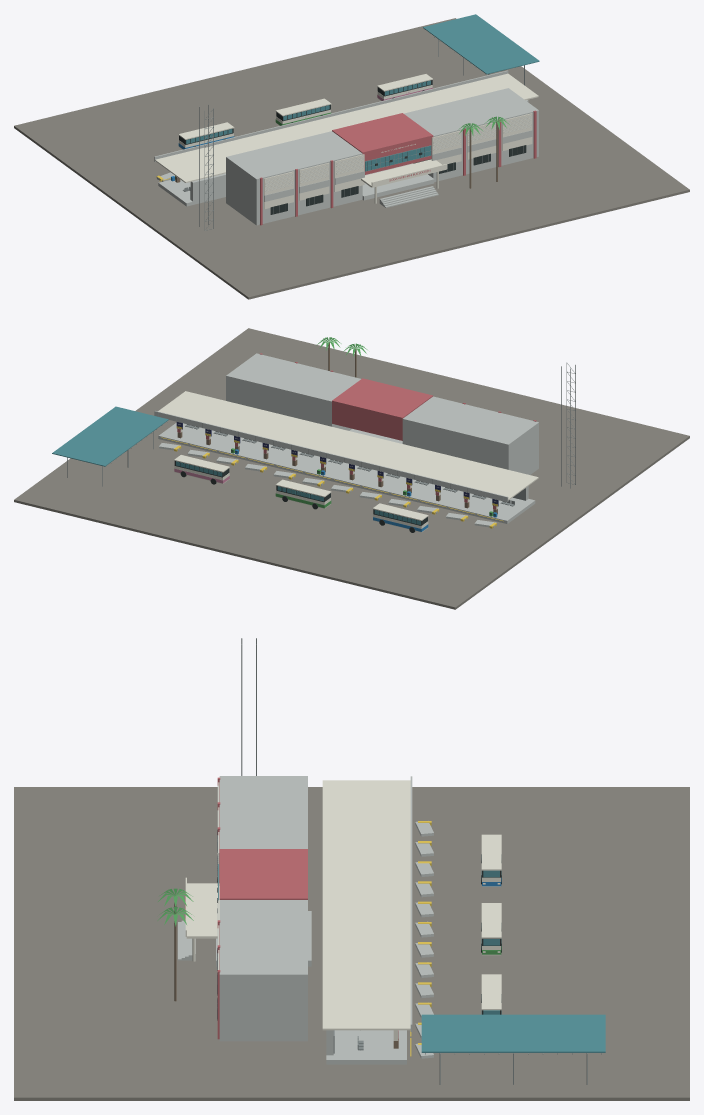
The model's file is godavarikhani_bus_station.glb.
3 renders of one model, top to bottom at view 1: azimuth 30°, elevation 25°; view 2: azimuth 150°, elevation 25°; view 3: azimuth 270°, elevation 25°, orthographic. The views are drawn at different scales.
Visible parts, largest first — view 1: Bus station site, Platform canopy, Terminal wing, Terminal wing.001, Side bay roof, Central upper entrance bridge, Platform grey fascia, Entrance floor, Concourse rear wall, Entrance projecting canopy, Front cladding panel.001, Front cladding panel.005 (+6 smaller); view 2: Bus station site, Platform canopy, Terminal wing, Platform slab, Terminal wing.001, Central upper entrance bridge, Side bay roof, Platform grey fascia; view 3: Bus station site, Platform canopy, Terminal wing.001, Side bay roof, Terminal wing, Central upper entrance bridge, Platform slab, Entrance projecting canopy, Blue local bus roof, Pink local bus roof, Platform grey fascia, Green local bus roof.
Part boxes in pixels (x1,y1,x2,y2): Bus station site: [14, 18, 689, 299]; Platform canopy: [155, 73, 538, 182]; Terminal wing: [226, 131, 362, 225]; Terminal wing.001: [404, 88, 538, 181]; Side bay roof: [423, 14, 539, 74]; Central upper entrance bridge: [332, 113, 433, 174]; Platform grey fascia: [154, 70, 508, 161]; Entrance floor: [362, 163, 434, 200]; Concourse rear wall: [190, 100, 528, 204]; Entrance projecting canopy: [361, 159, 446, 187]; Front cladding panel.001: [299, 163, 329, 200]; Front cladding panel.005: [502, 113, 532, 150]; Bus station site: [14, 328, 689, 609]; Platform canopy: [158, 391, 538, 500]; Terminal wing: [402, 396, 538, 474]; Platform slab: [158, 423, 535, 523]; Terminal wing.001: [226, 353, 360, 430]; Central upper entrance bridge: [332, 378, 432, 440]; Side bay roof: [52, 406, 168, 466]; Platform grey fascia: [154, 411, 508, 502]; Bus station site: [14, 787, 689, 1100]; Platform canopy: [322, 780, 410, 1030]; Terminal wing.001: [219, 900, 307, 1041]; Side bay roof: [421, 1014, 605, 1052]; Terminal wing: [219, 776, 307, 848]; Central upper entrance bridge: [219, 849, 307, 899]; Platform slab: [326, 1030, 406, 1064]; Entrance projecting canopy: [186, 883, 219, 938]; Blue local bus roof: [481, 834, 501, 870]; Pink local bus roof: [481, 974, 501, 1010]; Platform grey fascia: [410, 776, 412, 1031]; Green local bus roof: [481, 903, 501, 938].
Size of the model in its own units: 100 by 26.57 by 92.
